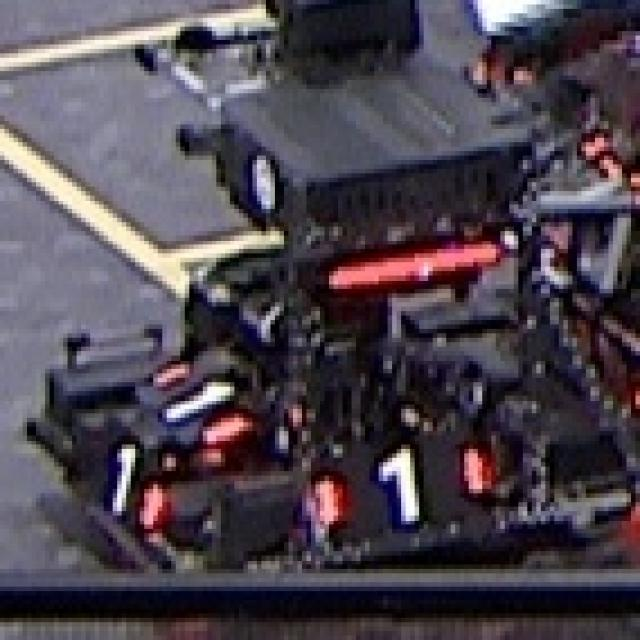R1: (297, 431, 487, 538), (126, 344, 252, 446), (63, 425, 167, 531)
